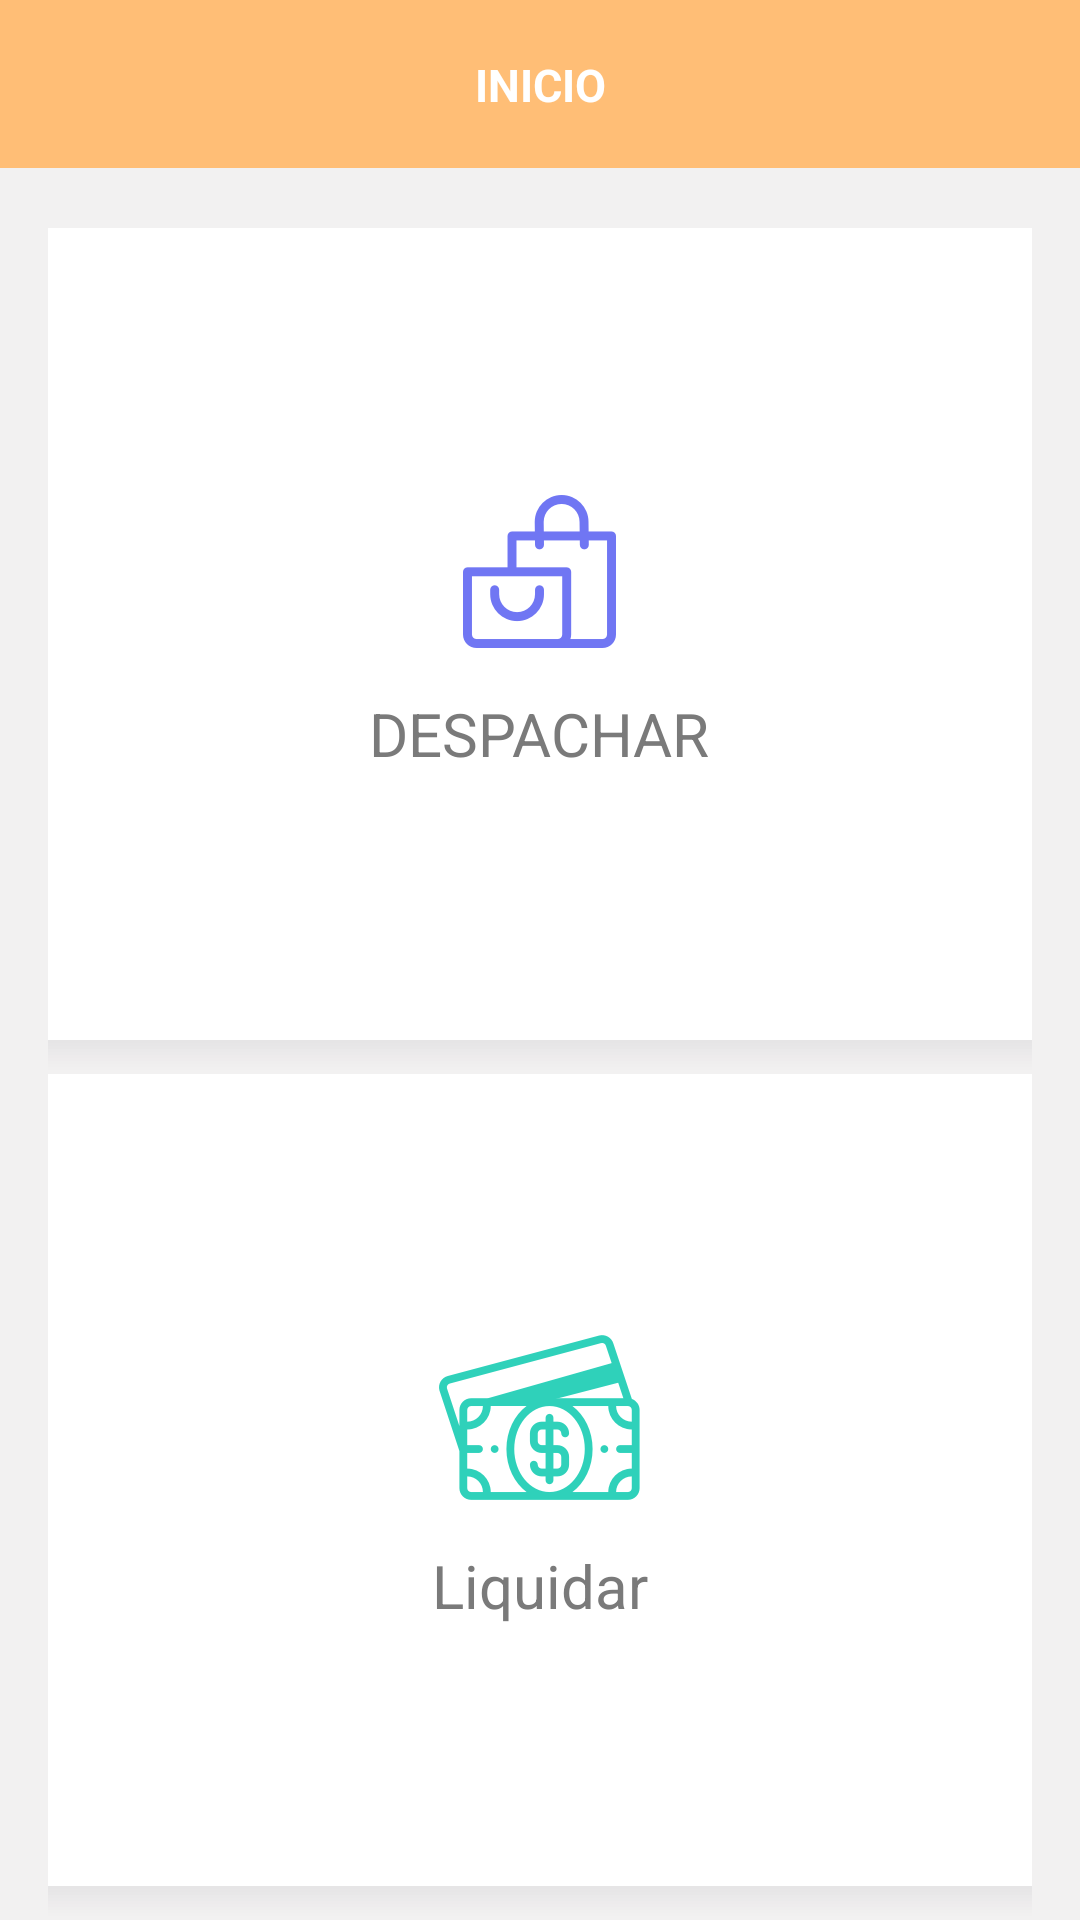

Icons on this 1080*1920 Android screen, each with the point to tap as point (x, y):
dollar: point (539, 1417)
shopping bag: point (539, 571)
